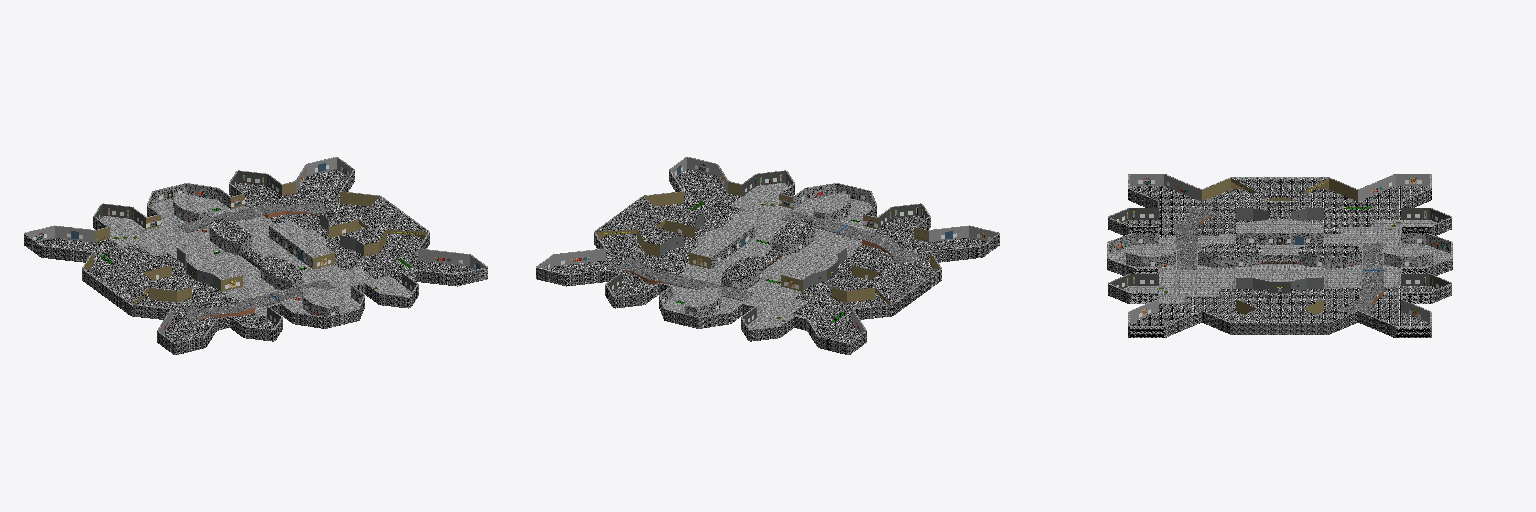
The picture shows the model from 3 angles: view 1: azimuth 30°, elevation 25°; view 2: azimuth 150°, elevation 25°; view 3: azimuth 270°, elevation 25°; orthographic projection.
Parts seen in each view (by area): view 1: Rip_0000-SKP--Road_0x00_2, Rip_0000-SKP--Road_0x00_1, Rip_0000-SKP--Wall_0x0C_2, Rip_0000-SKP--Wall_0x0C, Rip_0000-SKP--Road_0x00_3, Rip_0000-SKP--Wall_0x0C_6, Rip_0000-SKP--Wall_0x0C_5, Rip_0000-SKP--Wall_0x0C_4; view 2: Rip_0000-SKP--Road_0x00_2, Rip_0000-SKP--Road_0x00_1, Rip_0000-SKP--Wall_0x0C_2, Rip_0000-SKP--Wall_0x0C, Rip_0000-SKP--Road_0x00_3, Rip_0000-SKP--Wall_0x0C_6, Rip_0000-SKP--Wall_0x0C_5, Rip_0000-SKP--Wall_0x0C_4; view 3: Rip_0000-SKP--Road_0x00_2, Rip_0000-SKP--Road_0x00_1, Rip_0000-SKP--Wall_0x0C, Rip_0000-SKP--Road_0x00_3, Rip_0000-SKP--Wall_0x0C_6, Rip_0000-SKP--Wall_0x0C_5, Rip_0000-SKP--Wall_0x0C_4, Rip_0000-SKP--Wall_0x0C_2.
Part boxes in pixels (left/top/right/bottom): Rip_0000-SKP--Road_0x00_2: left=24, top=169, right=487, bottom=354; Rip_0000-SKP--Road_0x00_1: left=24, top=157, right=487, bottom=343; Rip_0000-SKP--Wall_0x0C_2: left=83, top=182, right=427, bottom=304; Rip_0000-SKP--Wall_0x0C: left=148, top=184, right=363, bottom=316; Rip_0000-SKP--Road_0x00_3: left=178, top=201, right=333, bottom=321; Rip_0000-SKP--Wall_0x0C_6: left=26, top=157, right=485, bottom=333; Rip_0000-SKP--Wall_0x0C_5: left=95, top=171, right=416, bottom=324; Rip_0000-SKP--Wall_0x0C_4: left=177, top=213, right=363, bottom=290; Rip_0000-SKP--Road_0x00_2: left=536, top=169, right=999, bottom=354; Rip_0000-SKP--Road_0x00_1: left=536, top=157, right=999, bottom=343; Rip_0000-SKP--Wall_0x0C_2: left=596, top=182, right=940, bottom=304; Rip_0000-SKP--Wall_0x0C: left=660, top=184, right=875, bottom=316; Rip_0000-SKP--Road_0x00_3: left=612, top=212, right=923, bottom=300; Rip_0000-SKP--Wall_0x0C_6: left=538, top=157, right=997, bottom=333; Rip_0000-SKP--Wall_0x0C_5: left=607, top=171, right=928, bottom=324; Rip_0000-SKP--Wall_0x0C_4: left=660, top=213, right=846, bottom=290; Rip_0000-SKP--Road_0x00_2: left=1107, top=178, right=1452, bottom=337; Rip_0000-SKP--Road_0x00_1: left=1107, top=174, right=1452, bottom=326; Rip_0000-SKP--Wall_0x0C: left=1109, top=233, right=1450, bottom=267; Rip_0000-SKP--Road_0x00_3: left=1176, top=207, right=1383, bottom=314; Rip_0000-SKP--Wall_0x0C_6: left=1130, top=174, right=1429, bottom=322; Rip_0000-SKP--Wall_0x0C_5: left=1109, top=208, right=1450, bottom=292; Rip_0000-SKP--Wall_0x0C_4: left=1236, top=208, right=1323, bottom=290; Rip_0000-SKP--Wall_0x0C_2: left=1202, top=178, right=1357, bottom=314.
Size of the model in its own units: 32940 by 1152 by 31404.
32 materials, 22 textured.